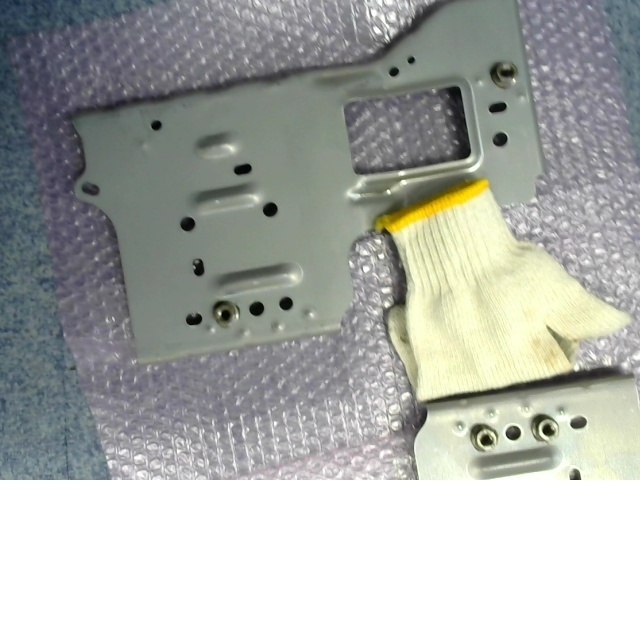dog: (489, 60, 519, 92), (469, 423, 498, 452), (532, 414, 559, 444), (212, 300, 240, 327)
